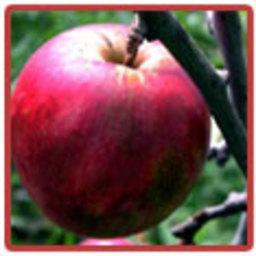apple: (9, 23, 215, 236)
